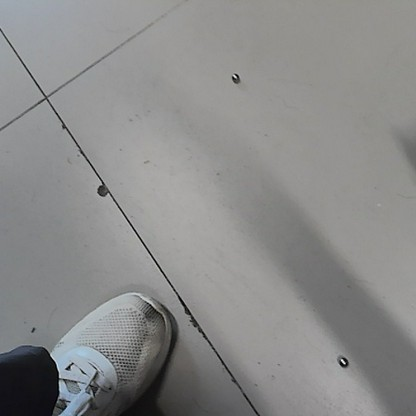ironball: (336, 353, 349, 369), (228, 69, 242, 83)
